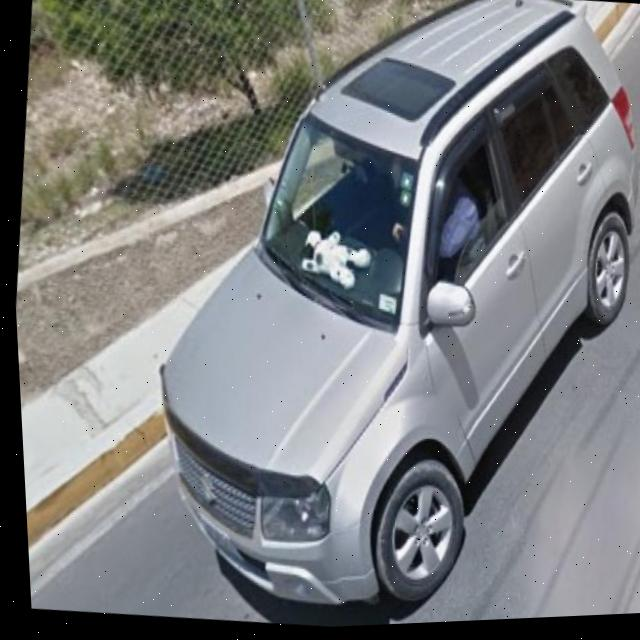vehicle: (116, 0, 640, 636)
